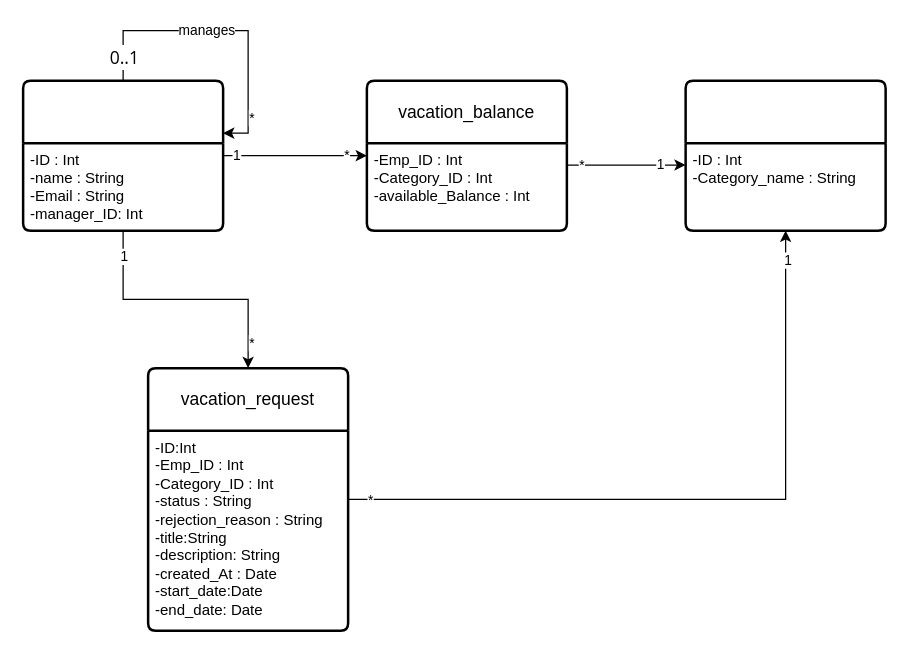
The diagram is 908 pixels wide and 654 high, and some of its shapes have lost their labels. The shapes that lost their labels are listed below. From the top down, each one's box as (x1, y1, x2, y2) in pixels, then its label:
(21, 79, 224, 231): employee
(684, 79, 886, 231): Vacation_Category
